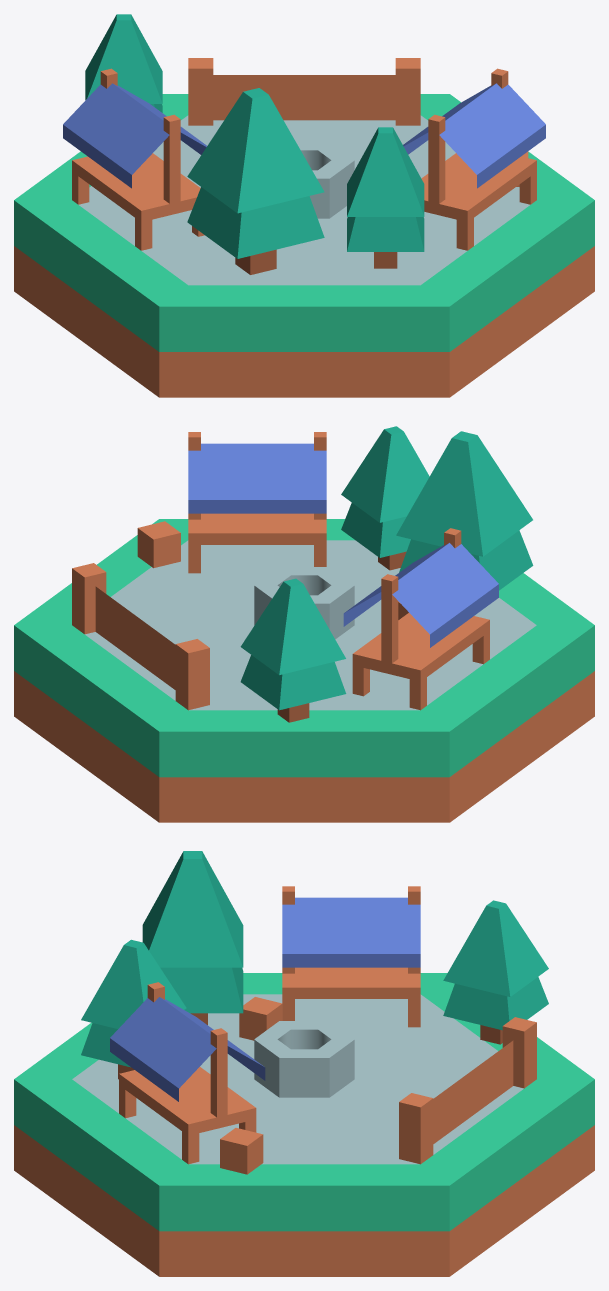
Rendered from Building Market.glb.
3 renders of one model, top to bottom at view 1: azimuth 30°, elevation 25°; view 2: azimuth 150°, elevation 25°; view 3: azimuth 270°, elevation 25°, orthographic.
Parts seen in each view (by area): view 1: building_market, tree, stall.001, stall, fence, tree.002, tree.001, well; view 2: building_market, stall, stall.001, tree, tree.001, fence, tree.002, well, crate; view 3: building_market, stall.001, stall, tree, tree.001, fence, well, tree.002, crate, crate.001.
Boxes of the visible parts, box(x1,y1,x2,y2) form: building_market: box(14, 94, 594, 397); tree: box(187, 88, 324, 274); stall.001: box(63, 68, 206, 250); stall: box(403, 68, 545, 250); fence: box(188, 58, 420, 125); tree.002: box(347, 127, 424, 268); tree.001: box(85, 14, 162, 112); well: box(296, 142, 354, 218); building_market: box(14, 519, 594, 822); stall: box(188, 432, 326, 573); stall.001: box(343, 528, 498, 710); tree: box(396, 431, 533, 590); tree.001: box(240, 578, 346, 722); fence: box(72, 563, 209, 710); tree.002: box(341, 426, 429, 570); well: box(254, 567, 354, 639); crate: box(137, 521, 180, 568); building_market: box(14, 973, 594, 1276); stall.001: box(282, 886, 420, 1027); stall: box(110, 982, 265, 1164); tree: box(142, 851, 243, 1024); tree.001: box(443, 900, 548, 1044); fence: box(399, 1017, 536, 1164); well: box(254, 1021, 354, 1097); tree.002: box(81, 939, 186, 1079); crate: box(220, 1128, 263, 1174); crate.001: box(239, 997, 282, 1040).
Size of the model in its own units: 1 by 0.58 by 1.15.
